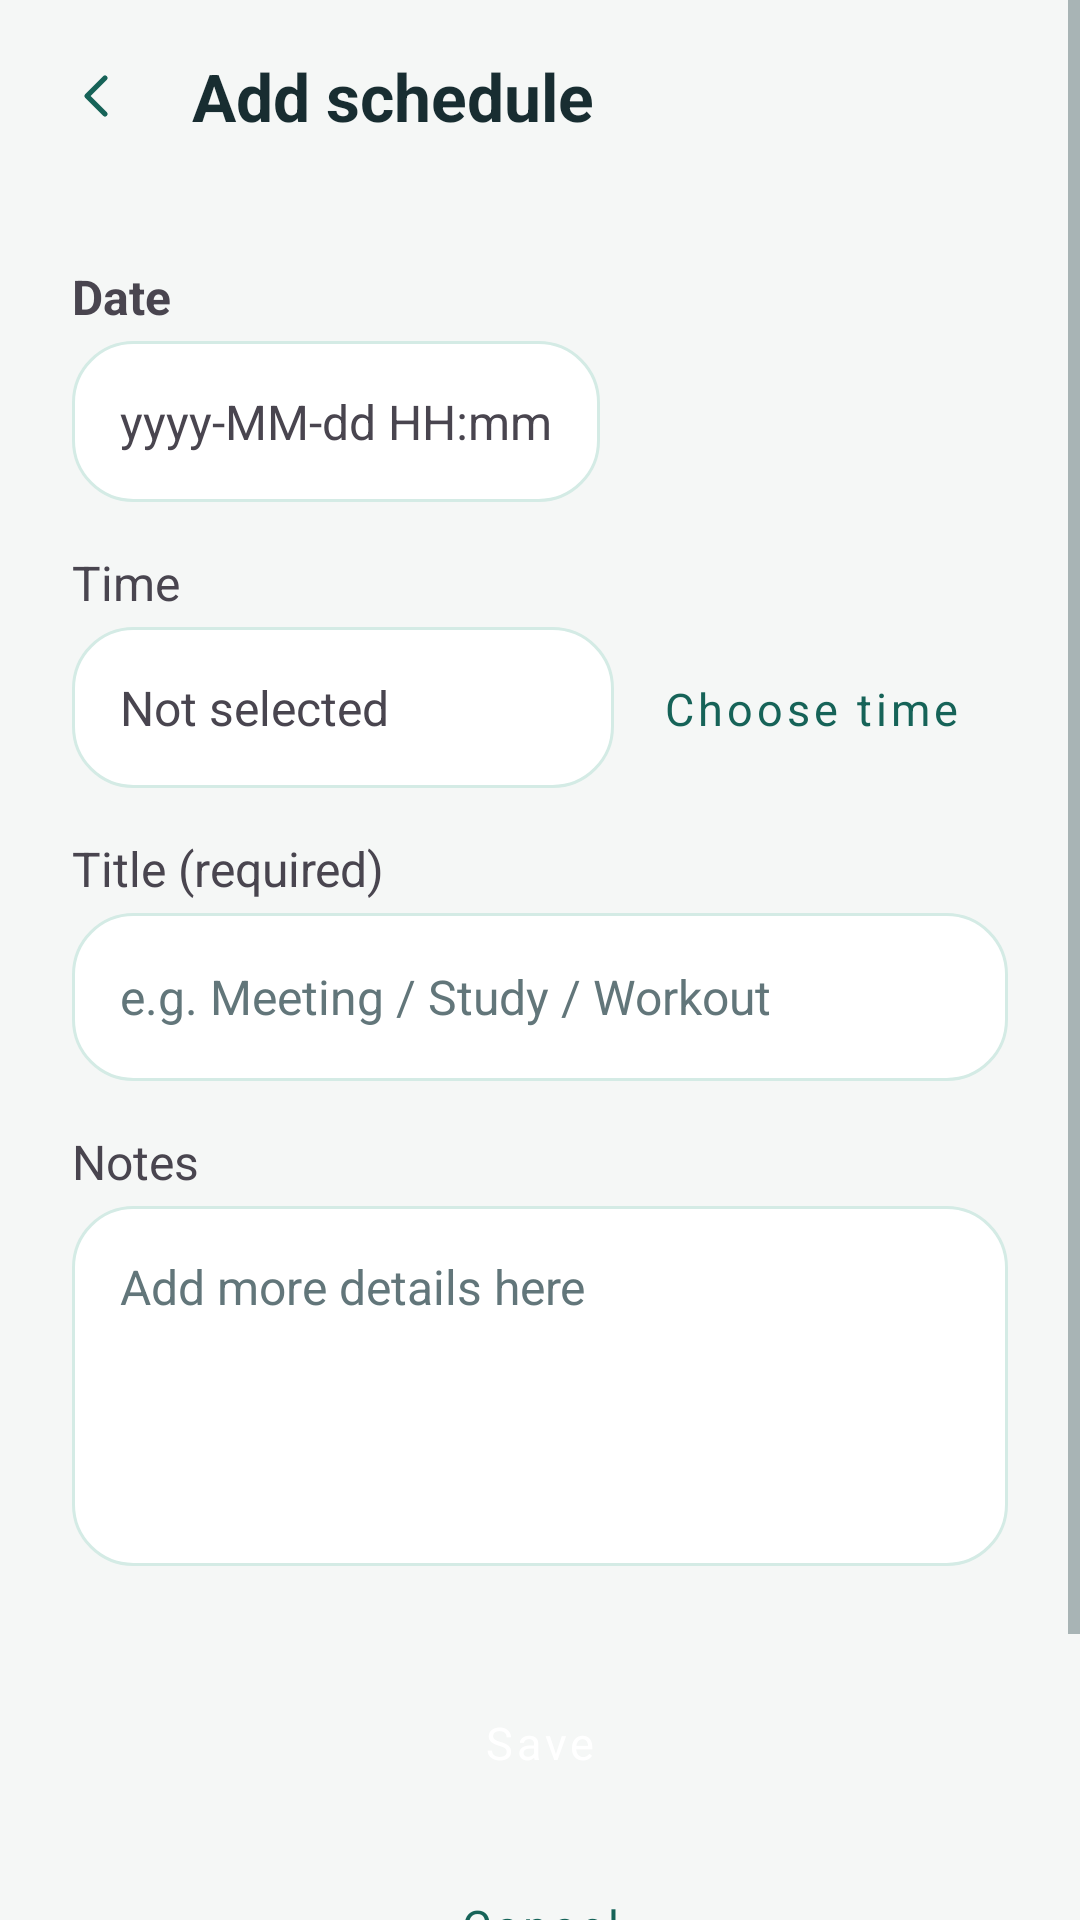

Named icons in this screenshot (1080*1920) and their centers, point (x, y):
Back: point (96, 96)
